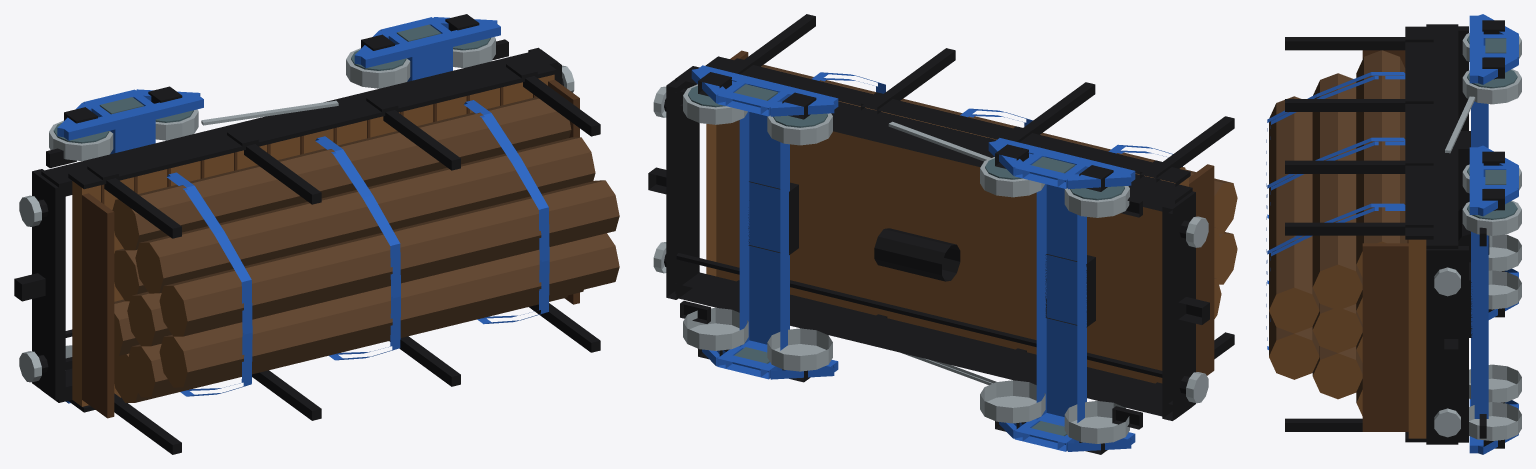
File: loaded.glb
3 renders of one model, left to right at view 1: azimuth 30°, elevation 25°; view 2: azimuth 150°, elevation 25°; view 3: azimuth 270°, elevation 25°, orthographic. The views are drawn at different scales.
Visible parts, largest first — view 1: loaded_log20.36, loaded_log2-0.36, loaded_log10.72, loaded_log01.08, loaded_deck, loaded_side1_-3.50_1.90, loaded_bogie-1, loaded_bogie1, loaded_bulkhead-1, loaded_headstock-1, loaded_solebar1, loaded_binder2.2 (+18 smaller); view 2: loaded_deck, loaded_bogie-1, loaded_bogie1, loaded_solebar-1, loaded_side1_-3.50_1.90, loaded_headstock1, loaded_headstock-1, loaded_solebar1, loaded_bulkhead-1, loaded_brake_cylinder, loaded_brake_pipe, loaded_buffers-1 (+11 smaller); view 3: loaded_bogie1, loaded_bulkhead1, loaded_log20.36, loaded_log10.72, loaded_bogie-1, loaded_headstock1, loaded_log01.08, loaded_solebar1, loaded_side1_-3.50_1.90, loaded_deck, loaded_log2-0.36, loaded_log1-0.72 (+18 smaller).
Boxes of the visible parts, x1,y1,x2,y2 form: loaded_log20.36: (159, 180, 619, 336); loaded_log2-0.36: (159, 233, 619, 387); loaded_log10.72: (135, 137, 595, 293); loaded_log01.08: (112, 97, 571, 250); loaded_deck: (72, 74, 554, 406); loaded_side1_-3.50_1.90: (68, 58, 556, 189); loaded_bogie-1: (49, 86, 203, 403); loaded_bogie1: (346, 14, 500, 88); loaded_bulkhead-1: (82, 193, 114, 418); loaded_headstock-1: (32, 169, 65, 400); loaded_solebar1: (41, 49, 558, 197); loaded_binder2.2: (464, 100, 549, 324); loaded_deck: (706, 101, 1188, 383); loaded_bogie-1: (980, 138, 1135, 454); loaded_bogie1: (683, 65, 838, 382); loaded_solebar-1: (675, 272, 1191, 419); loaded_side1_-3.50_1.90: (705, 56, 1190, 186); loaded_headstock1: (666, 79, 699, 299); loaded_headstock-1: (1162, 191, 1195, 420); loaded_solebar1: (675, 66, 1192, 213); loaded_bulkhead-1: (1189, 164, 1214, 375); loaded_brake_cylinder: (874, 228, 960, 281); loaded_brake_pipe: (676, 253, 1162, 377); loaded_buffers-1: (1178, 216, 1209, 403); loaded_bogie1: (1462, 145, 1521, 454); loaded_bulkhead1: (1362, 243, 1408, 431); loaded_log20.36: (1269, 96, 1319, 333); loaded_log10.72: (1312, 73, 1362, 310); loaded_bogie-1: (1462, 14, 1521, 319); loaded_headstock1: (1426, 246, 1468, 442); loaded_log01.08: (1356, 50, 1407, 277); loaded_solebar1: (1426, 24, 1458, 248); loaded_side1_-3.50_1.90: (1405, 26, 1433, 239); loaded_deck: (1408, 239, 1426, 438); loaded_log2-0.36: (1269, 311, 1319, 379); loaded_log1-0.72: (1312, 346, 1362, 399).
Size of the model in its own units: 8.2 by 3.9 by 3.62.
